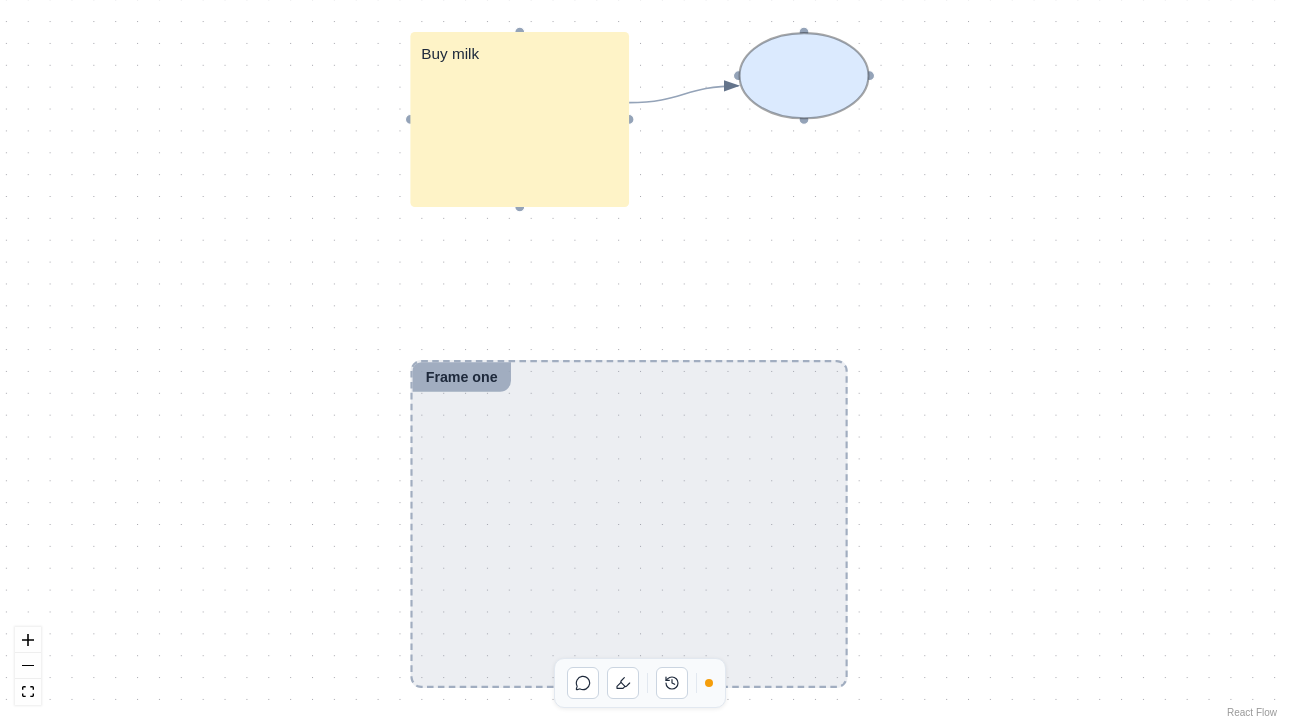
Test case: BoardCanvas — history panel (time-travel, P6-T36) › lists the LIVE board history against prod (no draft id threaded)
The width and height of the screenshot is (1292, 720).
Click the button titled "Version history". click: point(672, 683)
box: [656,667,688,699]
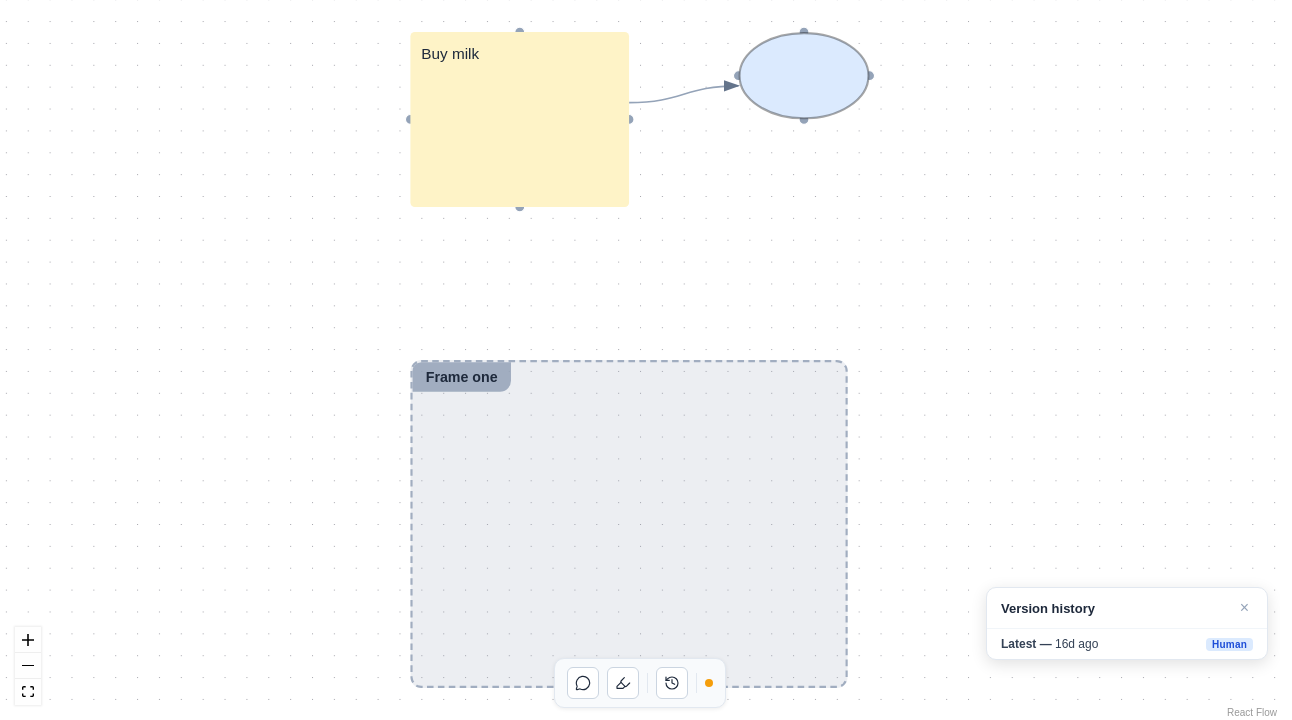
Expected: the text "Human" is shown, [1206,638,1253,650]
